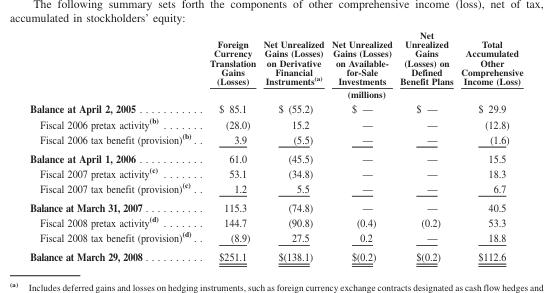table: (29, 28, 522, 262)
table column: (29, 28, 202, 262), (259, 28, 327, 262), (327, 28, 395, 262), (456, 28, 522, 262), (395, 28, 456, 262), (202, 28, 259, 262)
table column header: (29, 28, 522, 100)
table row: (29, 28, 522, 87), (29, 130, 522, 148), (29, 179, 522, 197), (29, 228, 522, 246), (29, 148, 522, 164), (29, 197, 522, 213), (29, 246, 522, 262), (29, 100, 522, 115), (29, 115, 522, 130), (29, 164, 522, 179), (29, 213, 522, 228), (29, 87, 522, 100)
table spanning cell: (202, 87, 522, 100)
